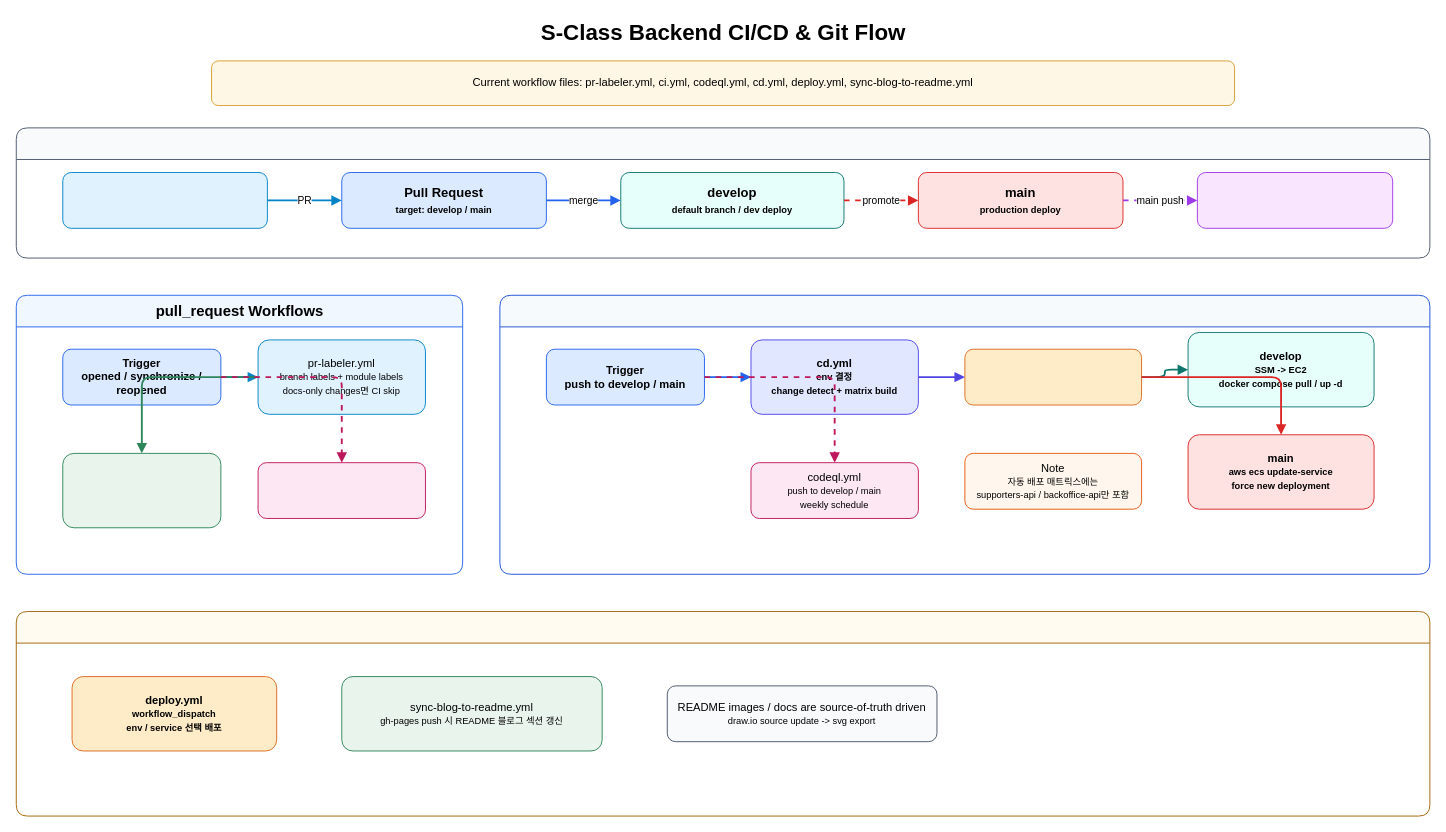
The diagram is 1446 pixels wide and 832 high, and some of its shapes have lost their labels. Each missing label, with the box of its shape:
Branch Flow: (15, 127, 1430, 258)
ci.yml ktlint build + test + Kover: (62, 452, 221, 528)
codeql.yml PR security scan: (257, 462, 425, 518)
Docker Buildx + ECR push sha / latest tags: (964, 348, 1142, 405)
feature/* fix/* refactor/*: (62, 172, 267, 228)
Manual / Auxiliary Workflows: (15, 611, 1430, 816)
push Workflows: (499, 294, 1430, 574)
Release merge commit cd.yml forces full deploy matrix: (1196, 172, 1393, 228)
